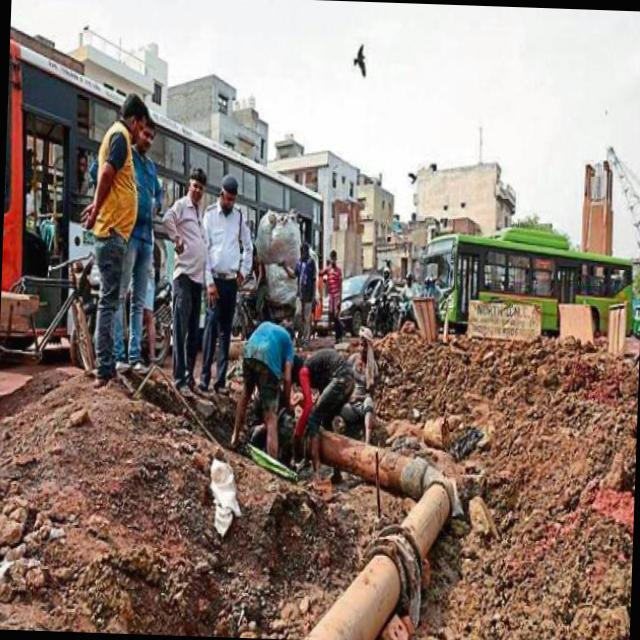gas: (320, 430, 453, 558), (303, 548, 417, 640)
